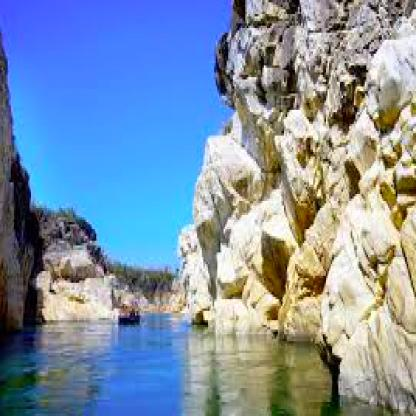Metamorphic_Marble: (315, 185, 401, 339), (189, 128, 256, 246), (364, 26, 414, 126), (269, 117, 315, 222)
